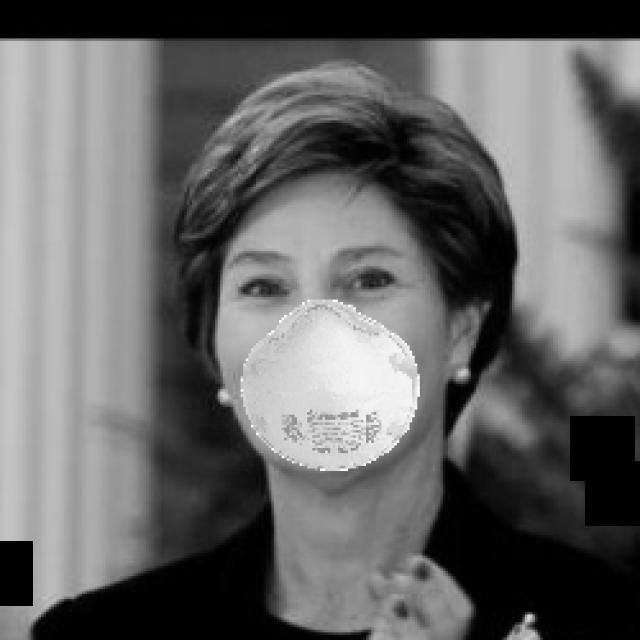n95: (216, 148, 438, 468)
